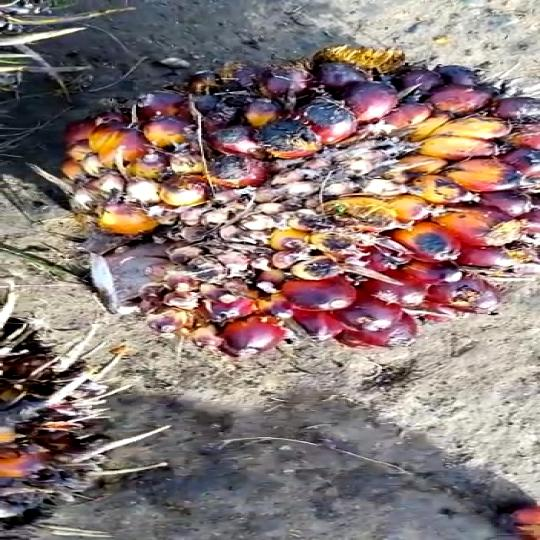masak: (41, 43, 540, 356)
